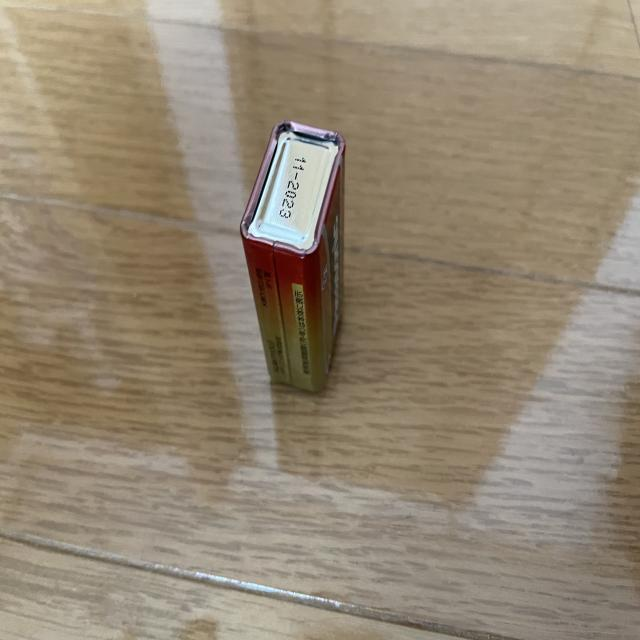9V: (241, 122, 348, 394)
